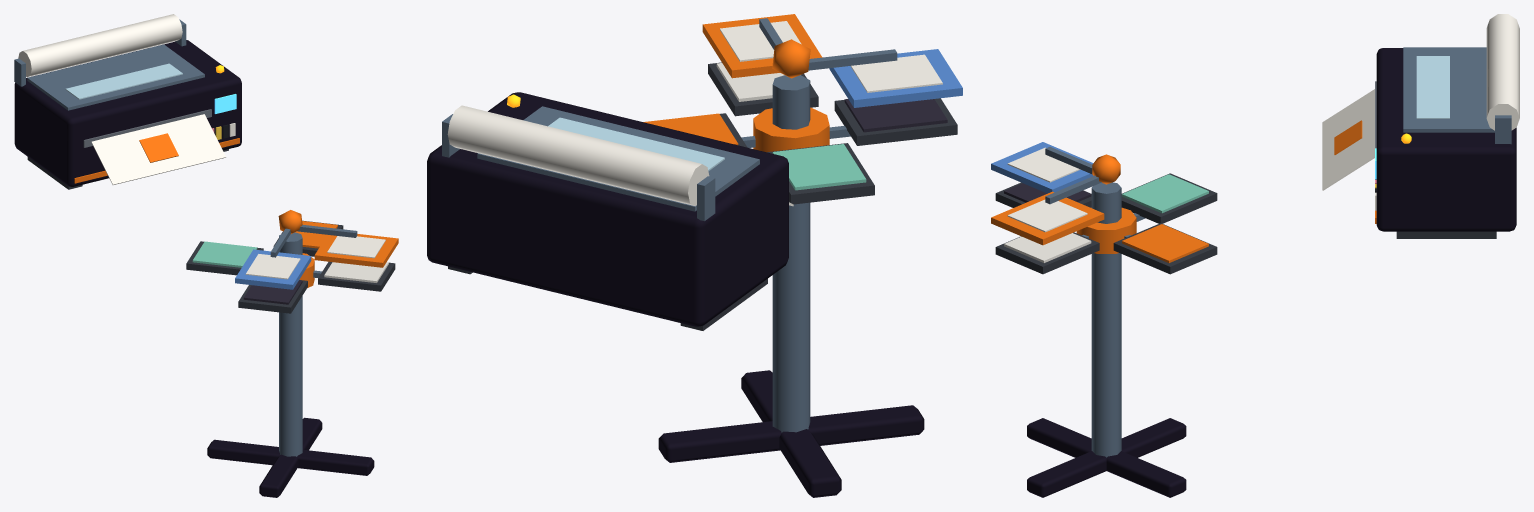
The model's file is station_buffer_ausstattung_1_3.glb.
3 renders of one model, left to right at view 1: azimuth 30°, elevation 25°; view 2: azimuth 150°, elevation 25°; view 3: azimuth 270°, elevation 25°, orthographic. The views are drawn at different scales.
Visible parts, largest first — view 1: station_buffer_ausstattung_1_3; view 2: station_buffer_ausstattung_1_3; view 3: station_buffer_ausstattung_1_3.
Boxes of the visible parts, x1,y1,x2,y2 form: station_buffer_ausstattung_1_3: [14, 14, 398, 497]; station_buffer_ausstattung_1_3: [427, 14, 962, 497]; station_buffer_ausstattung_1_3: [991, 14, 1519, 497].
Bounding box in the file's own units: 0.8165 × 1.29 × 1.59.
